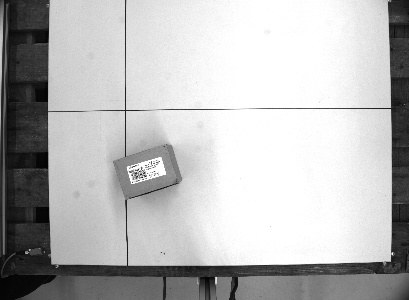b5: (109, 141, 186, 203)
